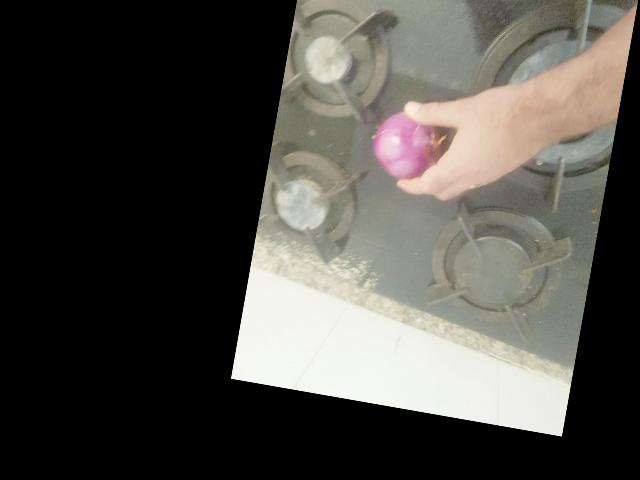onion: (289, 222, 368, 302)
